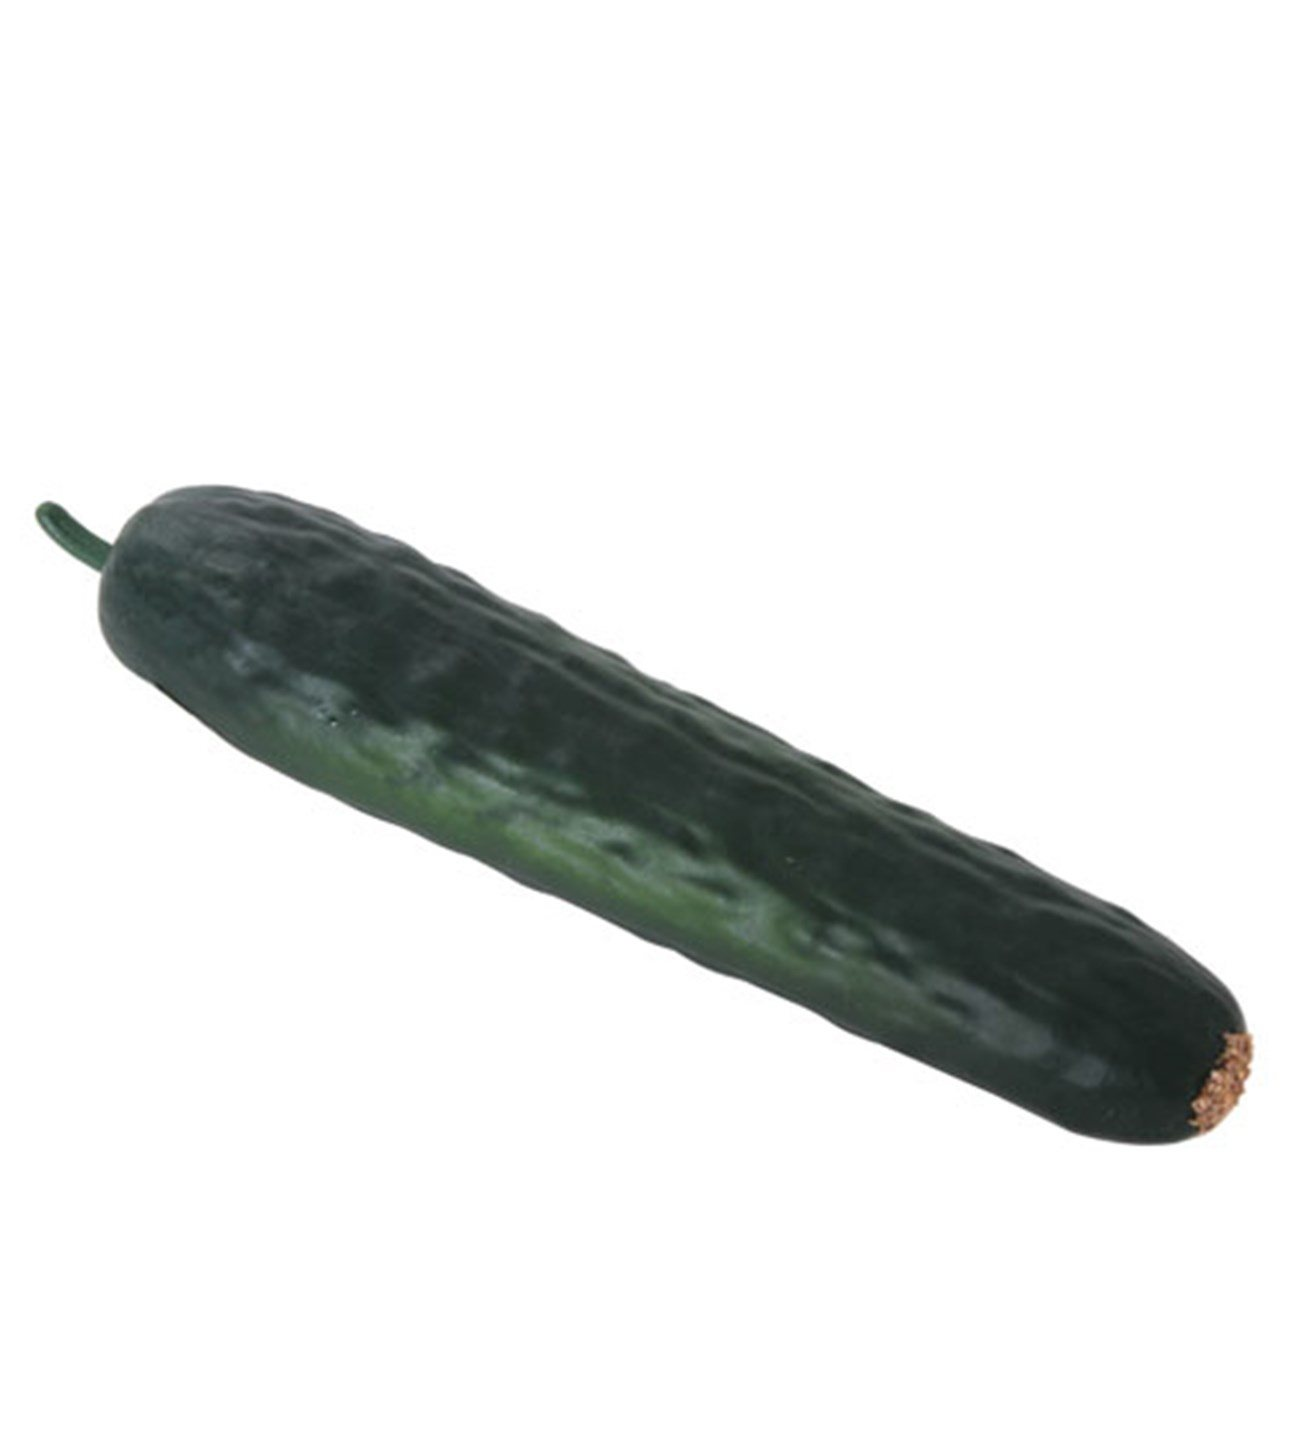Cucumber: (22, 472, 1260, 1158)
